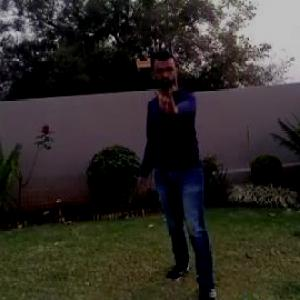takeoff-hand: (153, 82, 179, 123)
